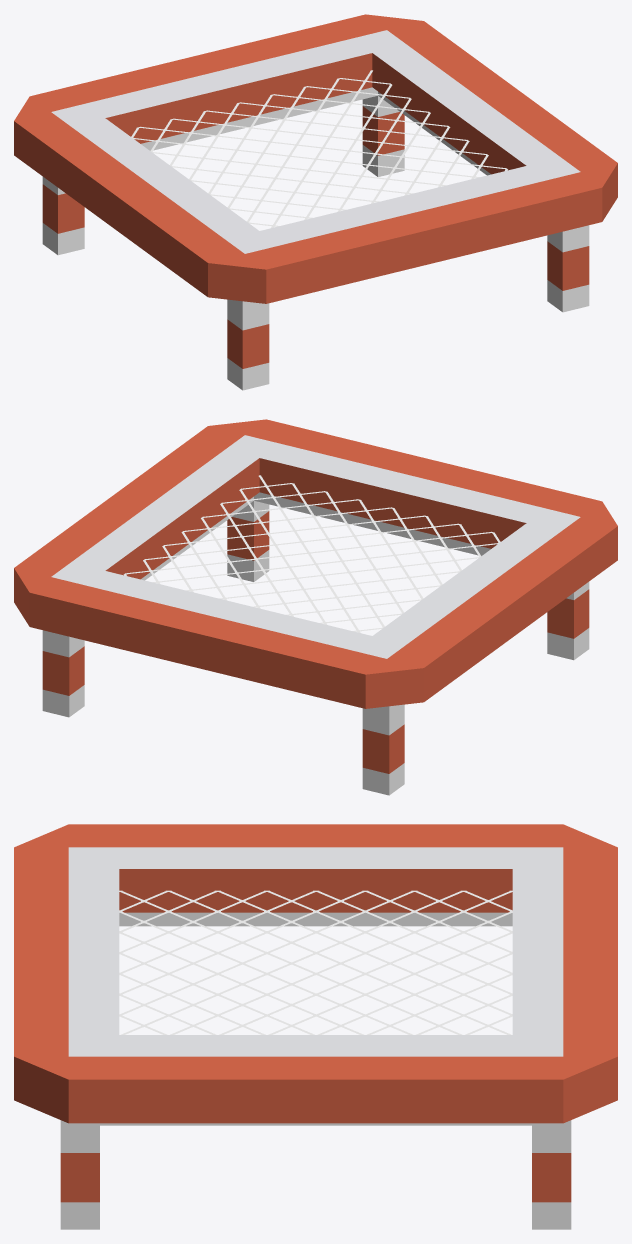
Rendered from frameLowTile.fbx.
3 renders of one model, top to bottom at view 1: azimuth 30°, elevation 25°; view 2: azimuth 150°, elevation 25°; view 3: azimuth 270°, elevation 25°, orthographic. The views are drawn at different scales.
Visible parts, largest first — view 1: frameLowTile; view 2: frameLowTile; view 3: frameLowTile.
Boxes of the visible parts, x1=… form: frameLowTile: x1=14, y1=14, x2=617, y2=390; frameLowTile: x1=14, y1=419, x2=617, y2=795; frameLowTile: x1=14, y1=824, x2=617, y2=1229.
Size of the model in its own units: 10 by 3.1 by 10.
4 materials, 1 textured.
